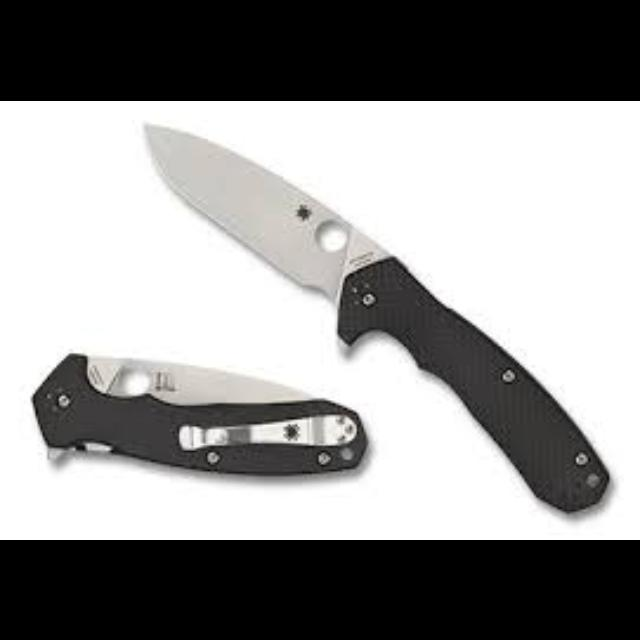Knife: (140, 119, 608, 511)
